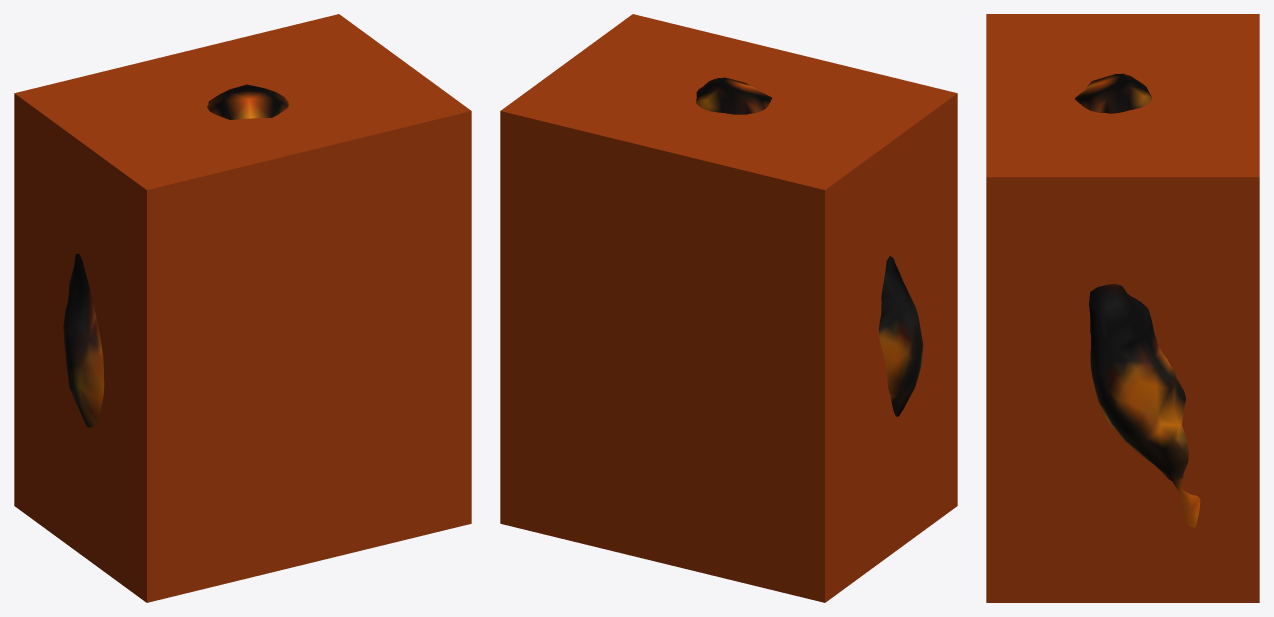
Rendered from MagmaElemental_1_000017.obj.
3 views of the same model, side by side, from view 1: azimuth 30°, elevation 25°; view 2: azimuth 150°, elevation 25°; view 3: azimuth 270°, elevation 25° (orthographic). The views are drawn at different scales.
Parts seen in each view (by area): view 1: Cube, Elemental_FireGolem; view 2: Cube, Elemental_FireGolem; view 3: Cube, Elemental_FireGolem.
Boxes of the visible parts, box(x1,y1,x2,y2) form: Cube: box(14, 14, 471, 602); Elemental_FireGolem: box(63, 84, 288, 427); Cube: box(500, 14, 957, 602); Elemental_FireGolem: box(696, 77, 923, 416); Cube: box(986, 14, 1259, 602); Elemental_FireGolem: box(1075, 73, 1200, 527).
Bounding box in the file's own units: 3.36 × 3.91 × 2.1.
2 materials, 1 textured.
